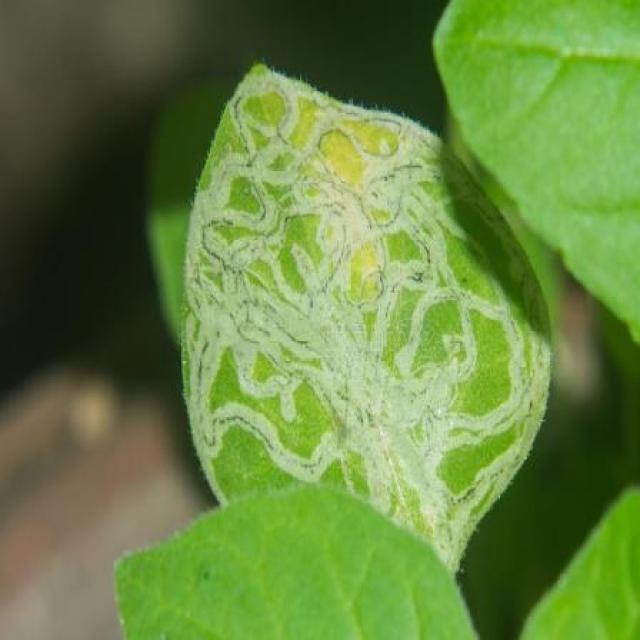Leaf Miner: (174, 56, 556, 584)
